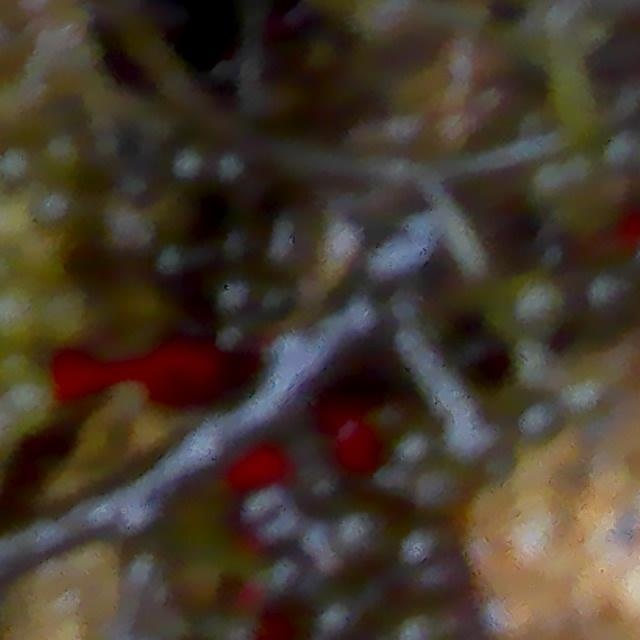SeaGrape: (266, 215, 331, 279), (579, 268, 640, 331), (508, 283, 566, 343), (219, 142, 274, 204), (407, 462, 464, 521), (415, 559, 476, 607), (397, 521, 457, 568), (332, 515, 390, 562), (174, 146, 223, 194), (216, 279, 262, 328), (318, 587, 362, 635)
